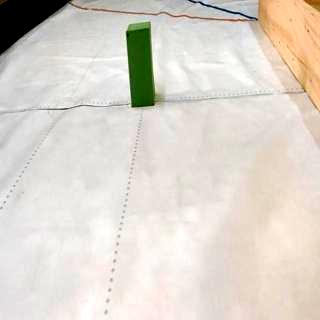greenbox: (126, 26, 156, 110)
